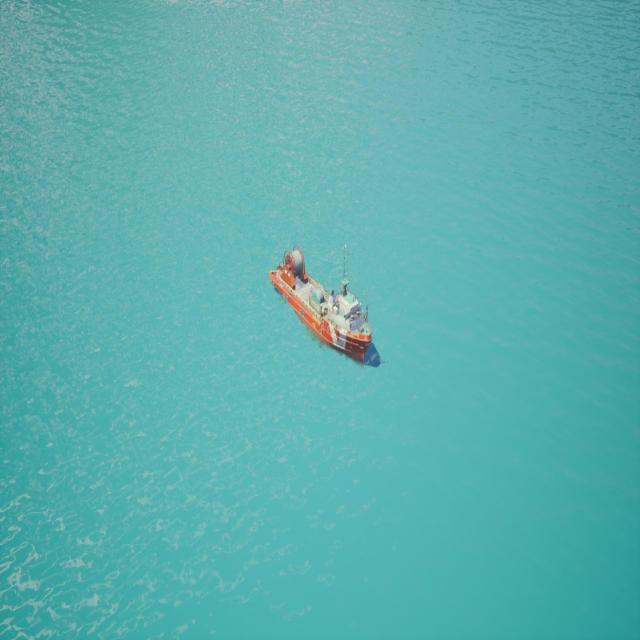tug boat: (267, 218, 373, 372)
